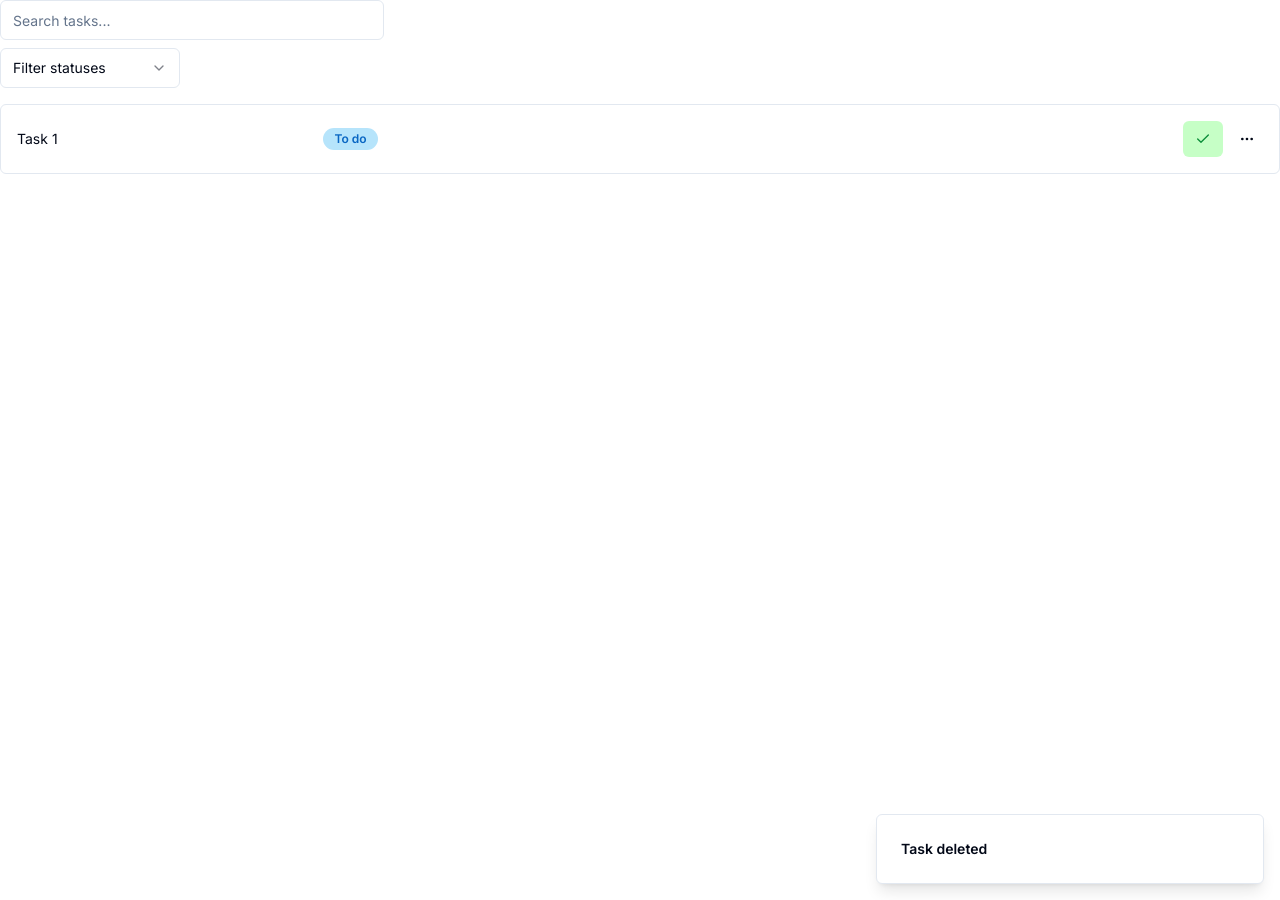
Test: TaskTable › actions › shows a dialog with the task details when the 'Details' button is clicked
Click the 2nd button named "Open menu" at (1247, 139), box [1231,123,1263,155]
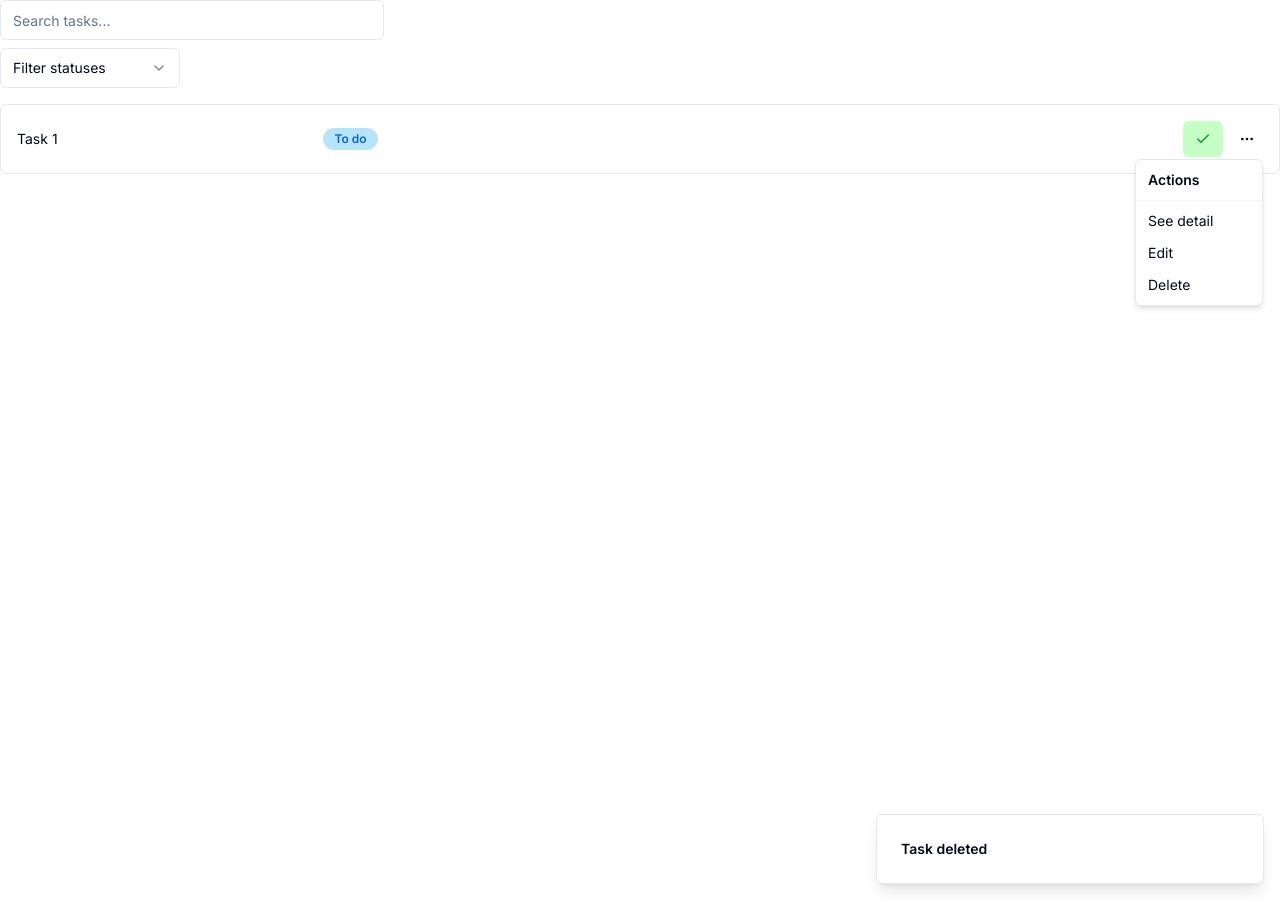
Click the menu item "See detail" at (1181, 220), box [1148,212,1213,229]
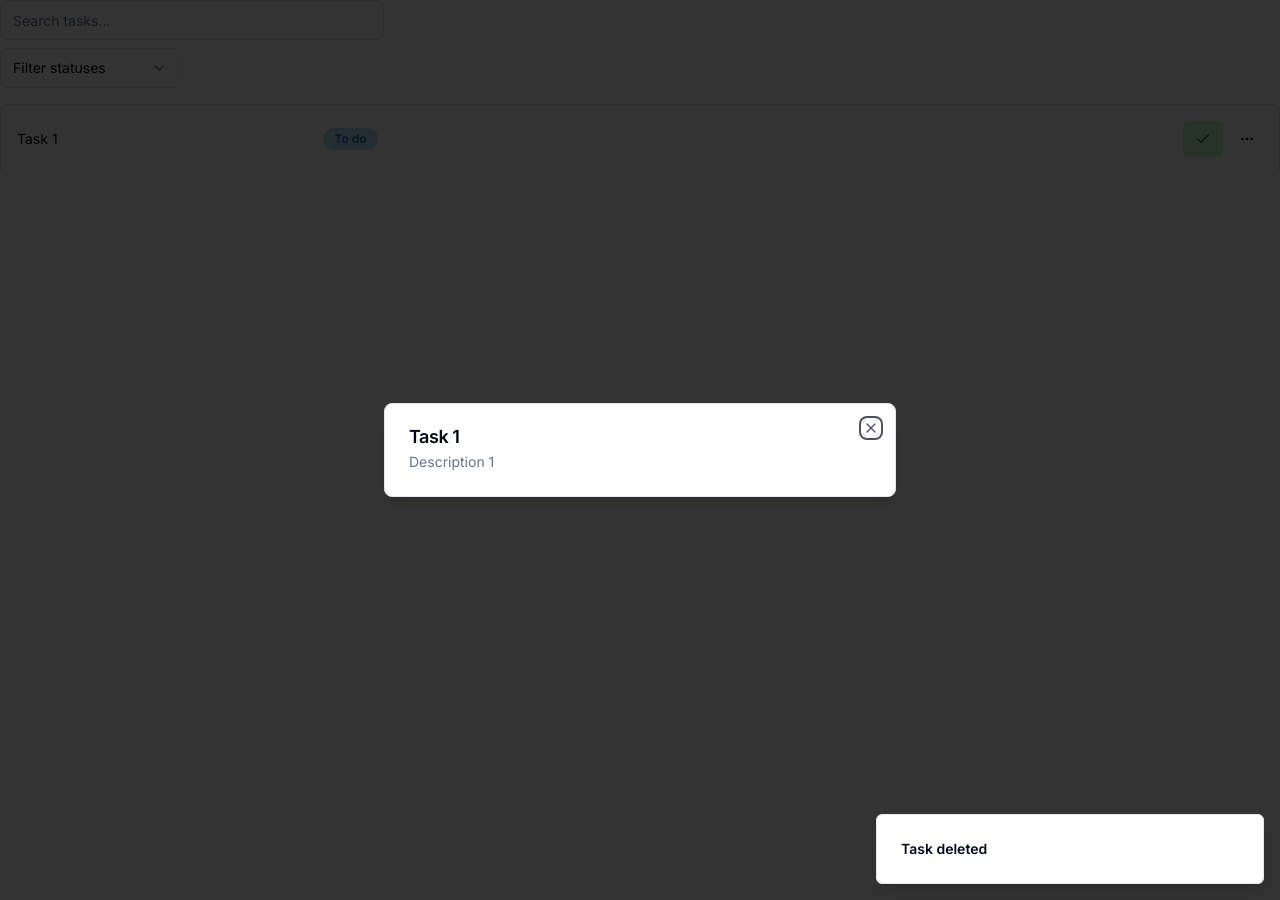
Check: the dialog is shown, box [384,403,896,497]
Check: the heading "Task 1" is shown, box [409,426,460,447]
Check: the text "Description 1" is shown, box [409,453,494,470]
